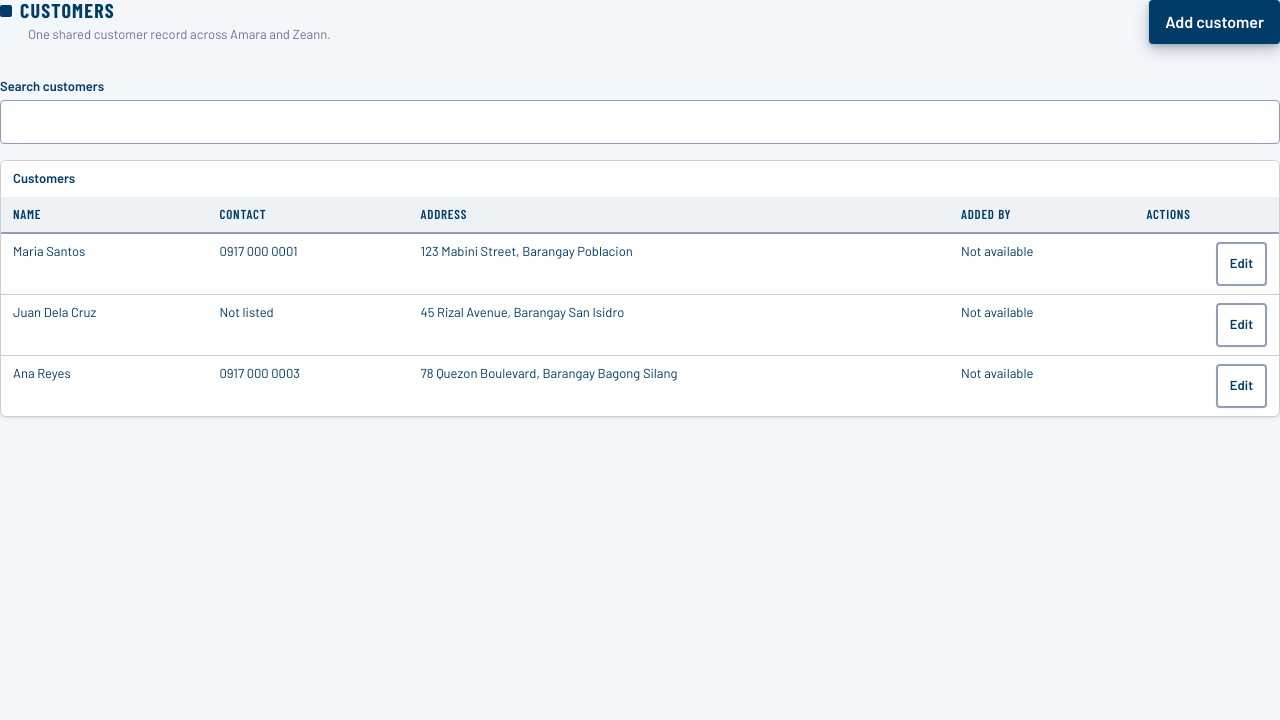
Test: CustomerListPage › captures an address when adding a customer
The width and height of the screenshot is (1280, 720).
Expected: the text "Maria Santos" is shown, [1,233,208,295]
Click the button "Add customer" at (1215, 22), box [1149,0,1279,44]
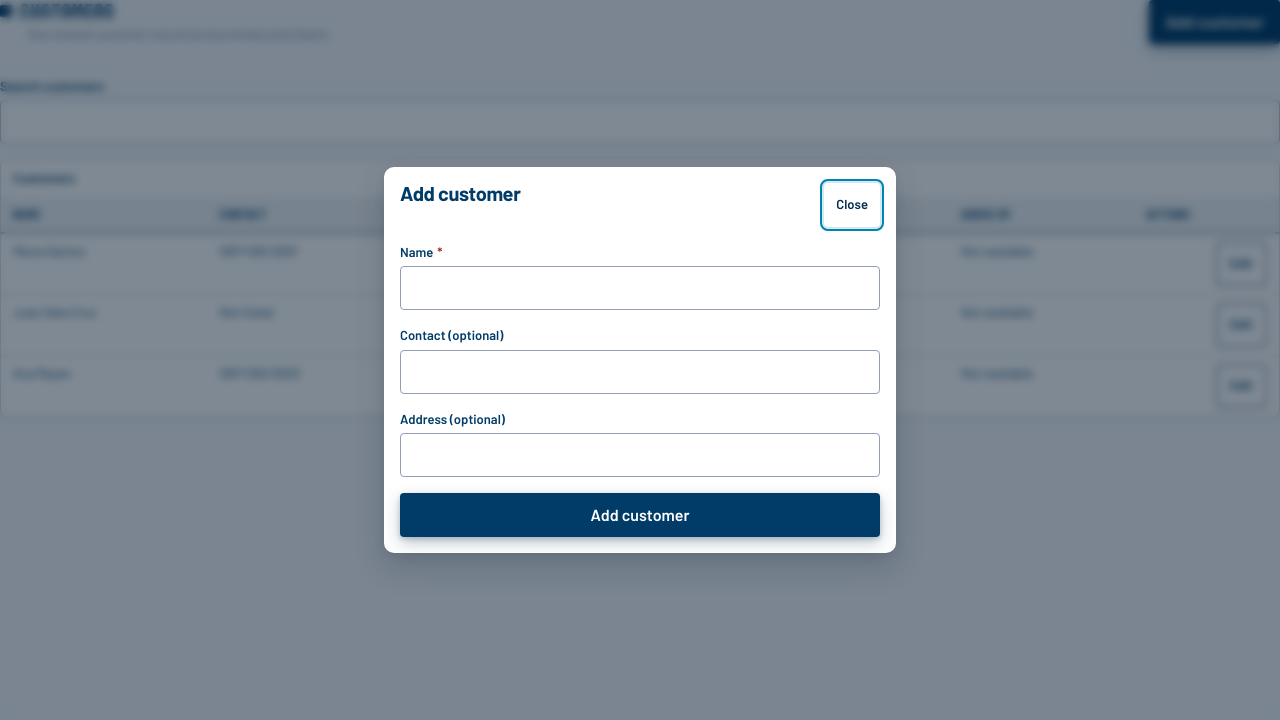
Type "Pedro Penduko" into the field labelled "Name*" at (640, 288), box [400,266,880,310]
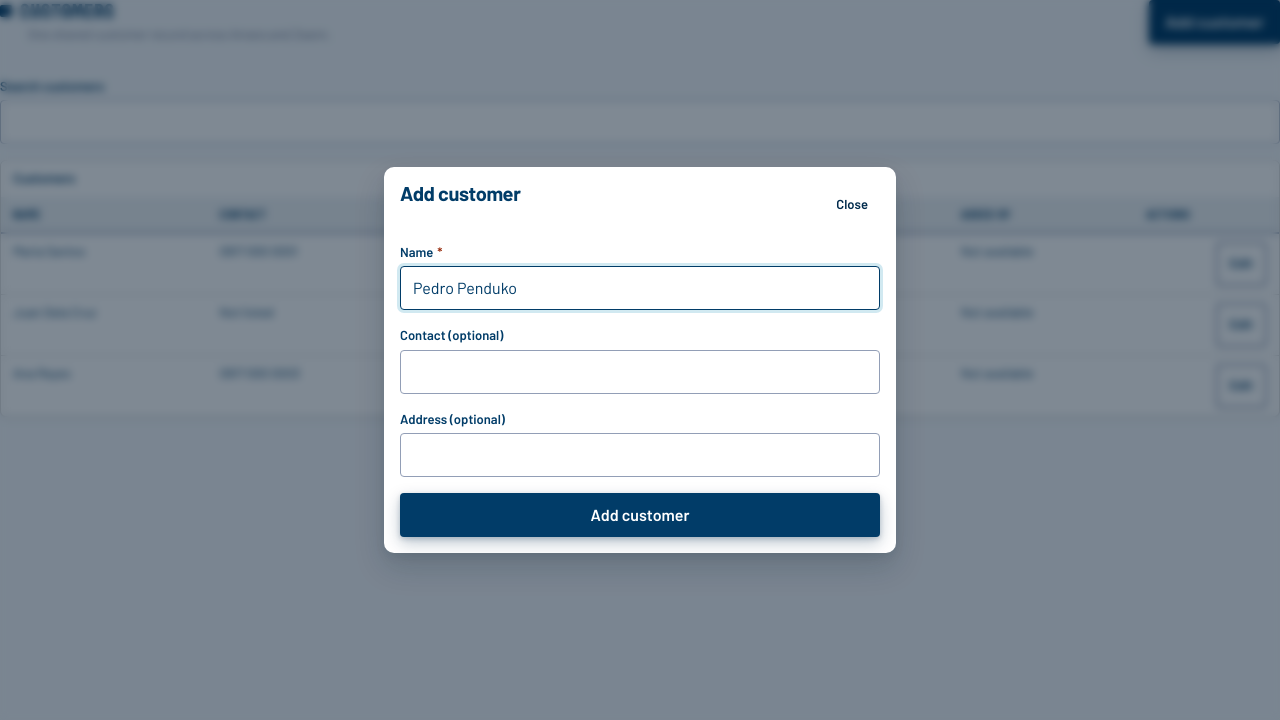
Type "123 Mabini St." into the field labelled "Address (optional)" at (640, 455), box [400,433,880,477]
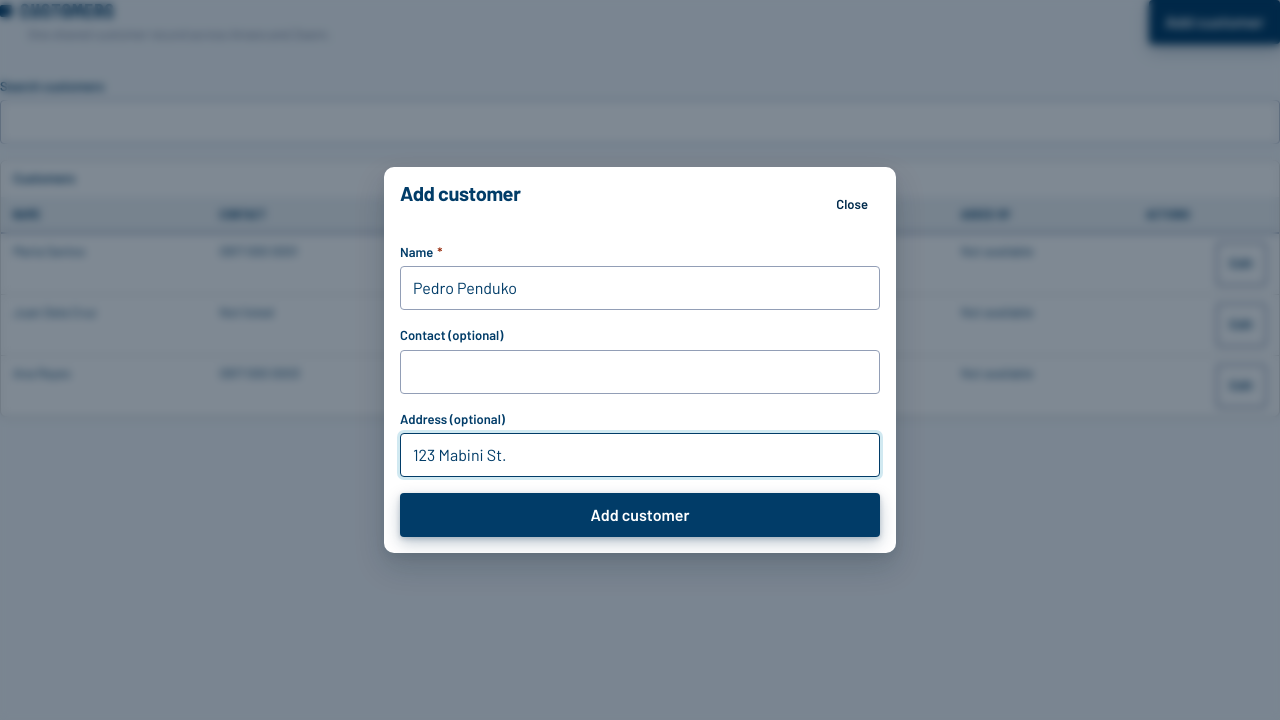
Click the button "Add customer" at (640, 515), box [400,493,880,537]
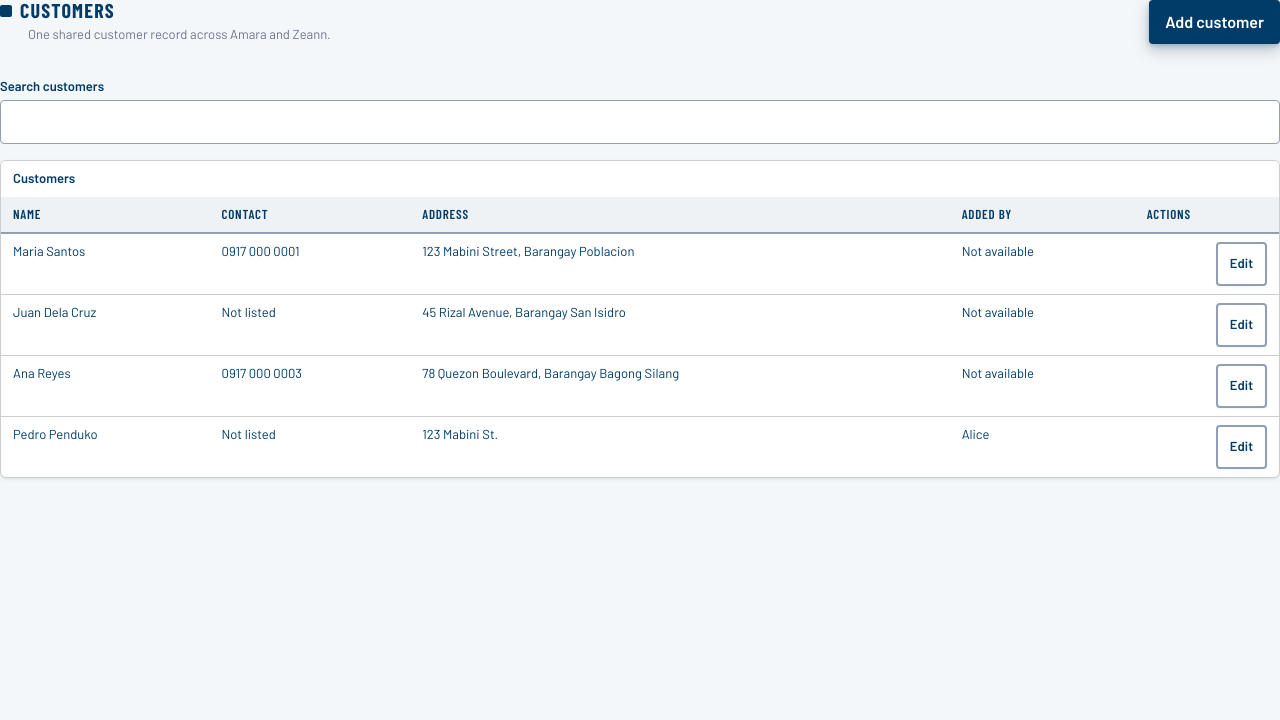
Now the text "Pedro Penduko" is shown, box [1,417,210,477]
Now the text "123 Mabini St." is shown, box [410,417,950,477]
